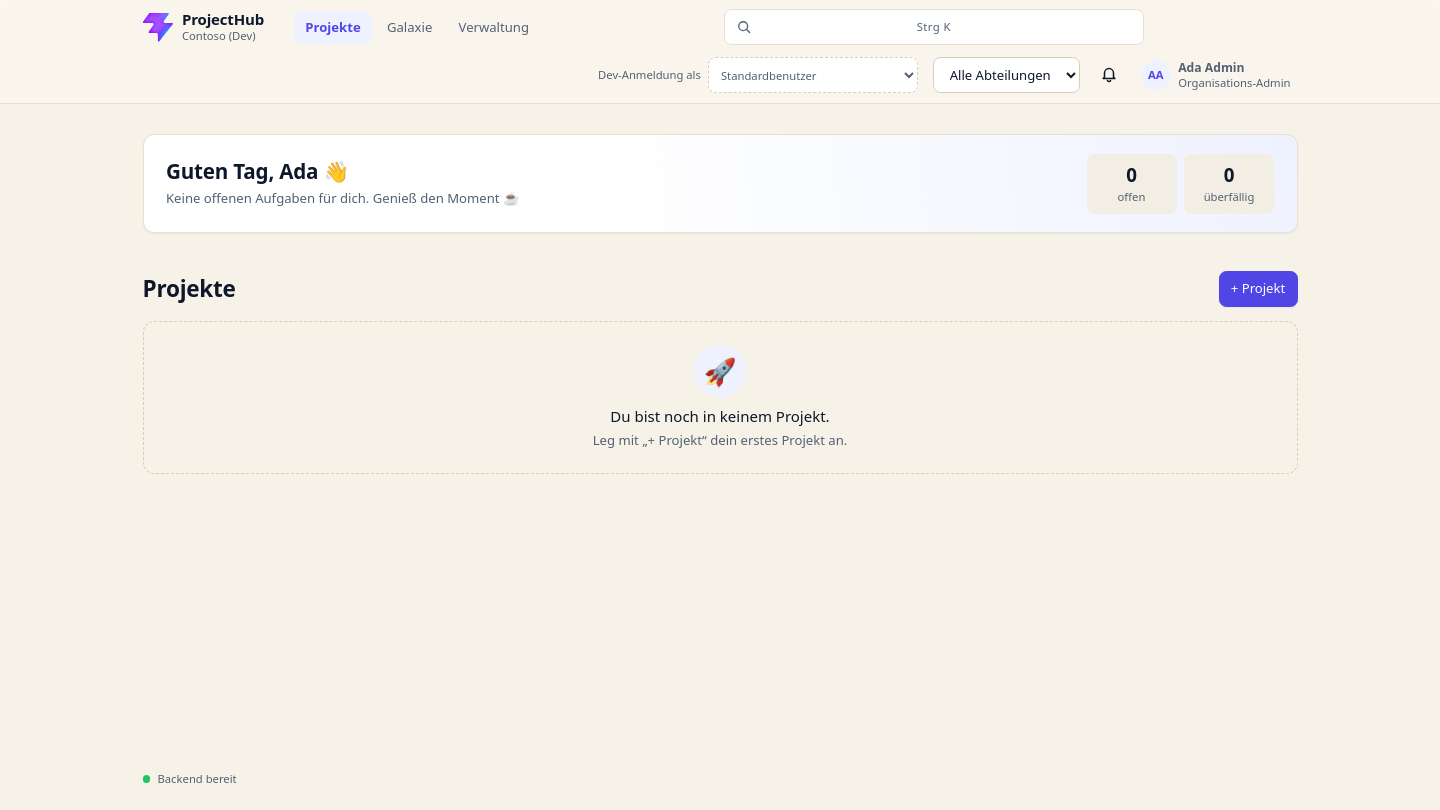
Scenario: App › creates a department with its Entra group
The width and height of the screenshot is (1440, 810).
Click the button "Verwaltung" at (494, 27), box x1=447 y1=11 x2=540 y2=44
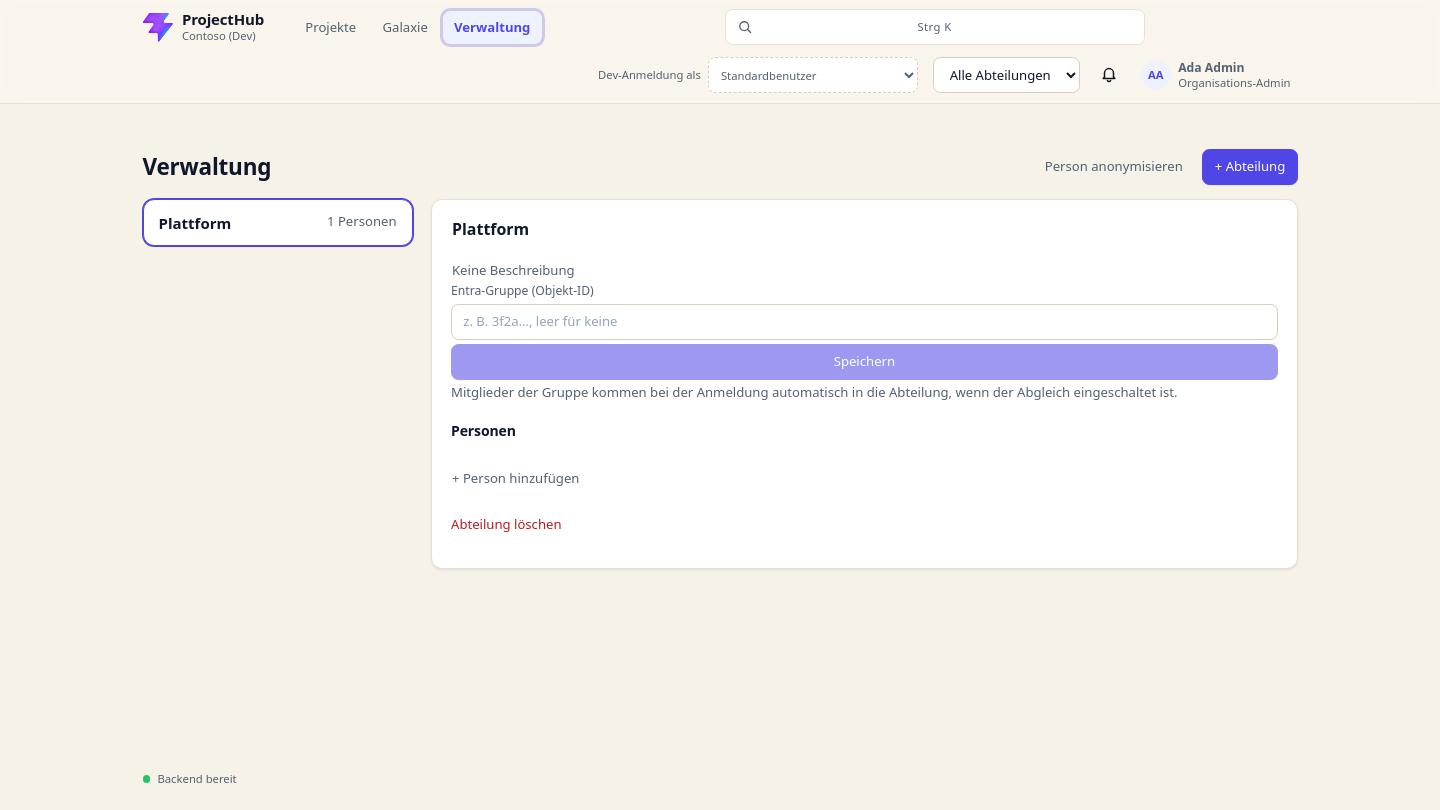
Click the button "+ Abteilung" at (1250, 167), box x1=1202 y1=149 x2=1298 y2=185
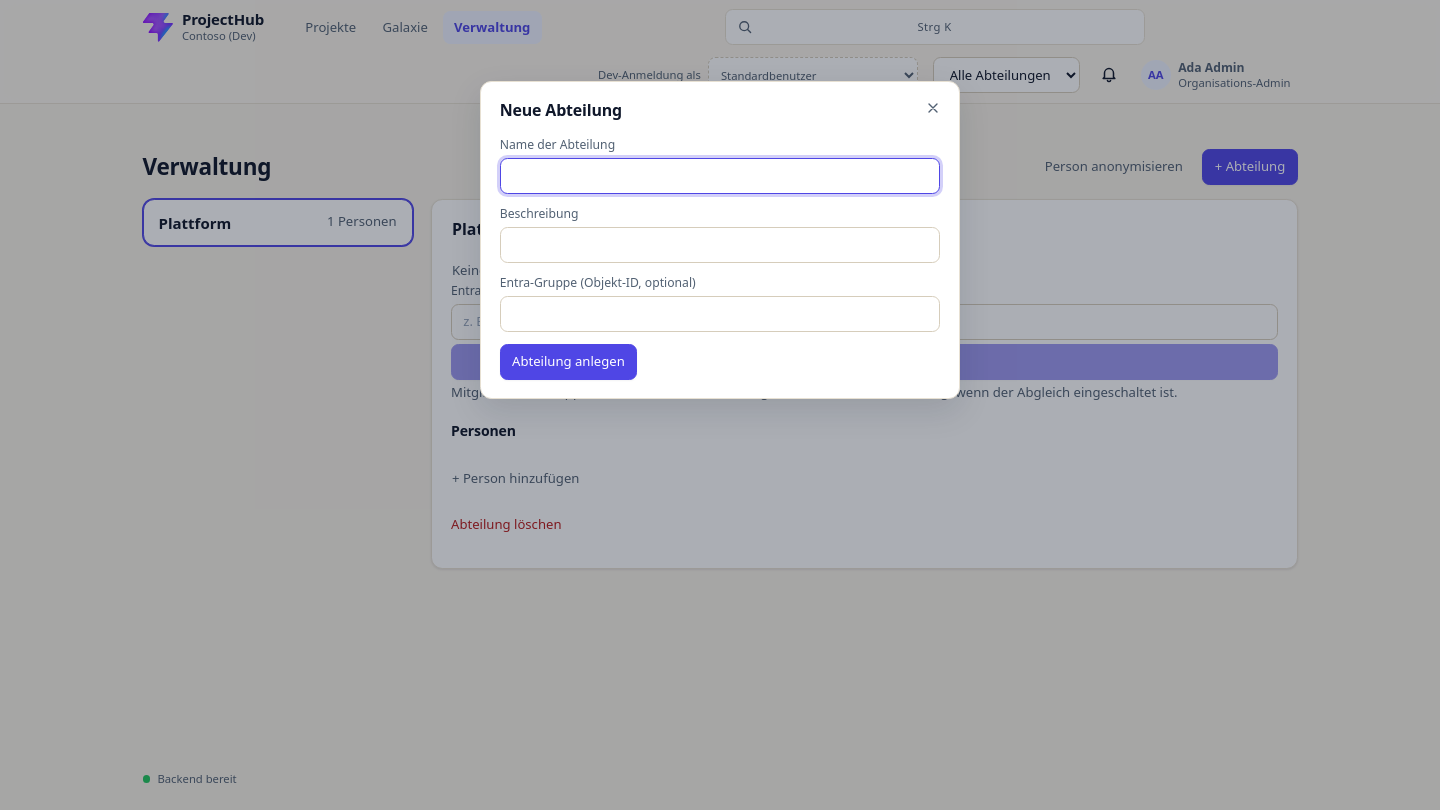
Type "Einkauf" into the field labelled "Name der Abteilung" at (720, 176), box x1=500 y1=158 x2=940 y2=194
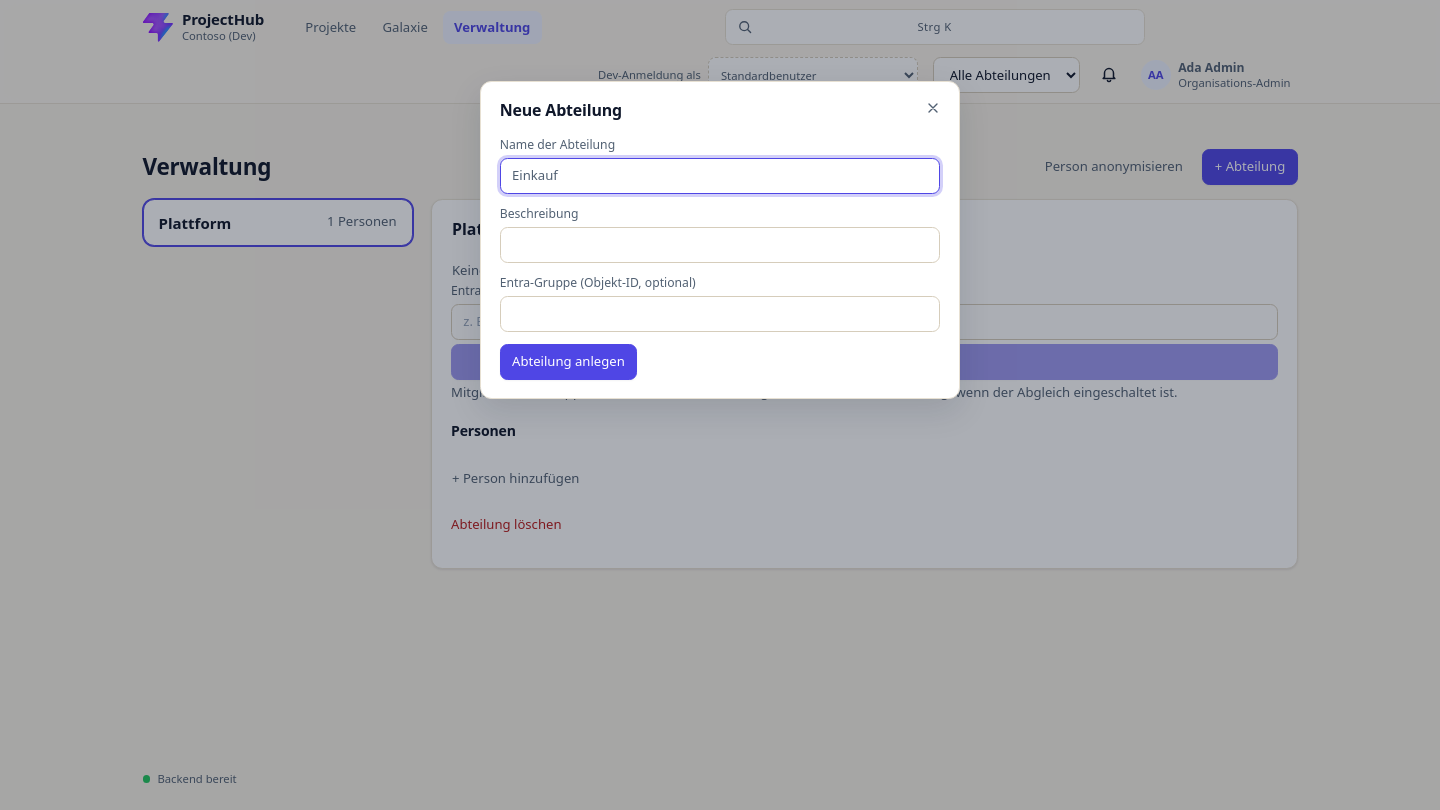
Type "group-1" into the field labelled "Entra-Gruppe (Objekt-ID, optional)" at (720, 314), box x1=500 y1=296 x2=940 y2=332
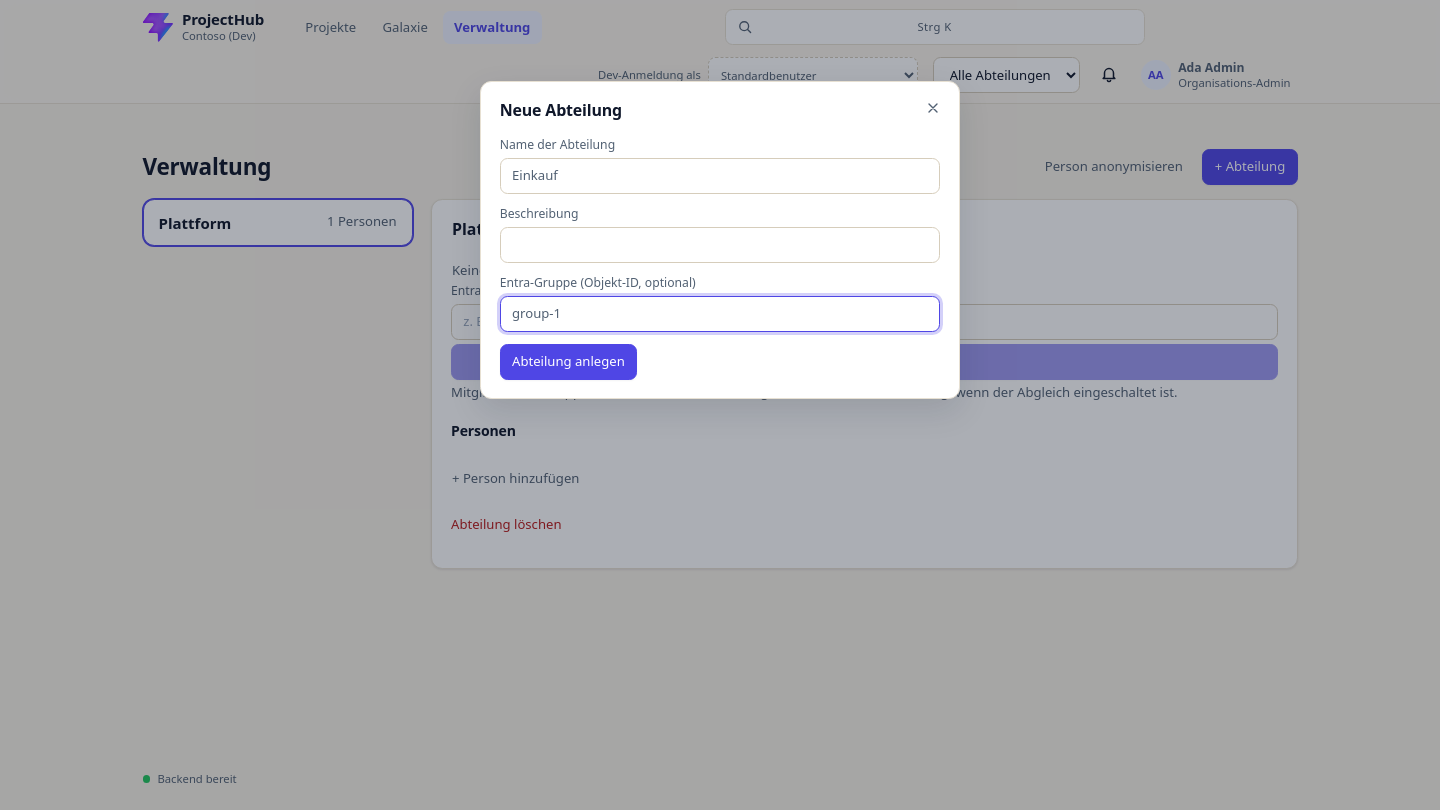
Click the button "Abteilung anlegen" at (568, 362), box x1=500 y1=344 x2=637 y2=380
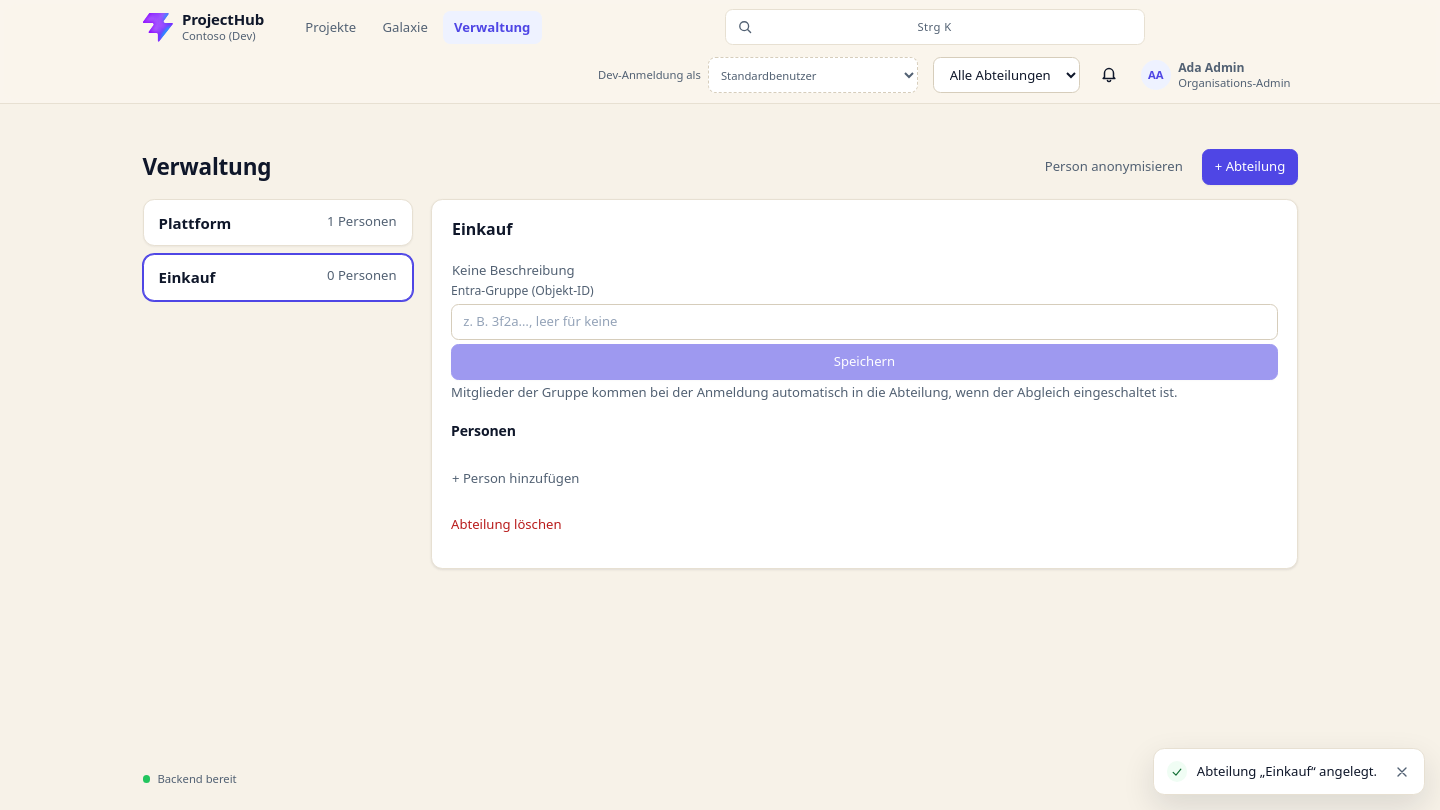
Check: the button "Einkauf 0 Personen" is shown, box x1=142 y1=254 x2=412 y2=301
